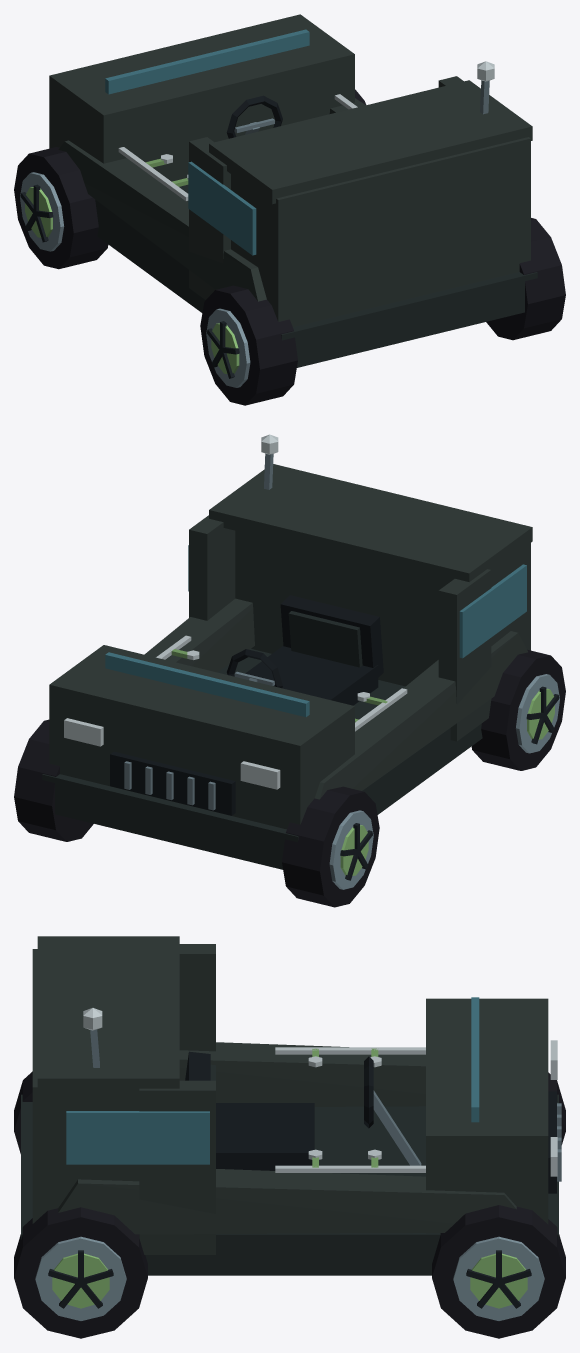
File: kart.glb
3 views of the same model, one above another, from view 1: azimuth 30°, elevation 25°; view 2: azimuth 150°, elevation 25°; view 3: azimuth 270°, elevation 25° (orthographic). The views are drawn at different scales.
Visible parts, largest first — view 1: identity-van-van-utility-body, wheel-rear-left, wheel-front-left, wheel-rear-right, identity-van-motif-circuit, identity-van-driver-cockpit, identity-van-motif-antenna; view 2: identity-van-van-utility-body, identity-van-driver-cockpit, wheel-front-left, wheel-rear-left, wheel-front-right, identity-van-motif-circuit, identity-van-motif-antenna; view 3: identity-van-van-utility-body, wheel-front-right, wheel-rear-right, identity-van-driver-cockpit, identity-van-motif-circuit, identity-van-motif-antenna, wheel-rear-left.
Part boxes in pixels (x1,y1,x2,y2): identity-van-van-utility-body: [49, 14, 537, 367]; wheel-rear-left: [200, 285, 297, 405]; wheel-front-left: [14, 147, 108, 269]; wheel-rear-right: [486, 218, 565, 340]; identity-van-motif-circuit: [118, 94, 357, 200]; identity-van-driver-cockpit: [226, 95, 282, 138]; identity-van-motif-antenna: [477, 61, 494, 114]; identity-van-van-utility-body: [42, 464, 532, 869]; identity-van-driver-cockpit: [226, 595, 383, 705]; wheel-front-left: [282, 786, 379, 907]; wheel-rear-left: [471, 649, 565, 770]; wheel-front-right: [14, 719, 93, 841]; identity-van-motif-circuit: [156, 635, 407, 731]; identity-van-motif-antenna: [261, 434, 278, 489]; identity-van-van-utility-body: [21, 936, 561, 1275]; wheel-front-right: [432, 1205, 565, 1338]; wheel-rear-right: [14, 1207, 147, 1338]; identity-van-driver-cockpit: [185, 1051, 421, 1170]; identity-van-motif-circuit: [275, 1047, 425, 1172]; identity-van-motif-antenna: [83, 1008, 102, 1067]; wheel-rear-left: [14, 1071, 32, 1153].
Bounding box in the file's own units: 2.13 × 1.72 × 2.8.
